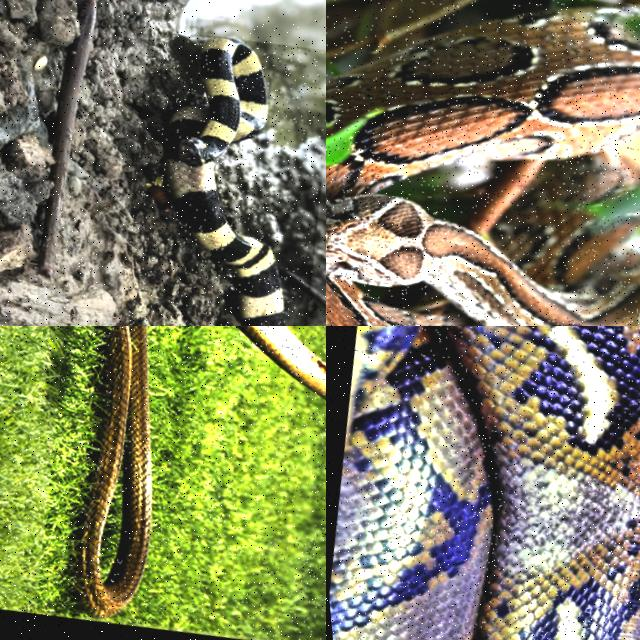Bungarus fasciatus: (162, 36, 283, 325)
Daboia siamensis: (326, 5, 639, 325)
Malayopython reticulatus: (330, 326, 639, 639)
Ophiophagus hannah: (74, 326, 151, 617)
snake: (326, 5, 639, 325), (330, 326, 639, 639), (162, 36, 283, 325), (74, 326, 151, 617)
